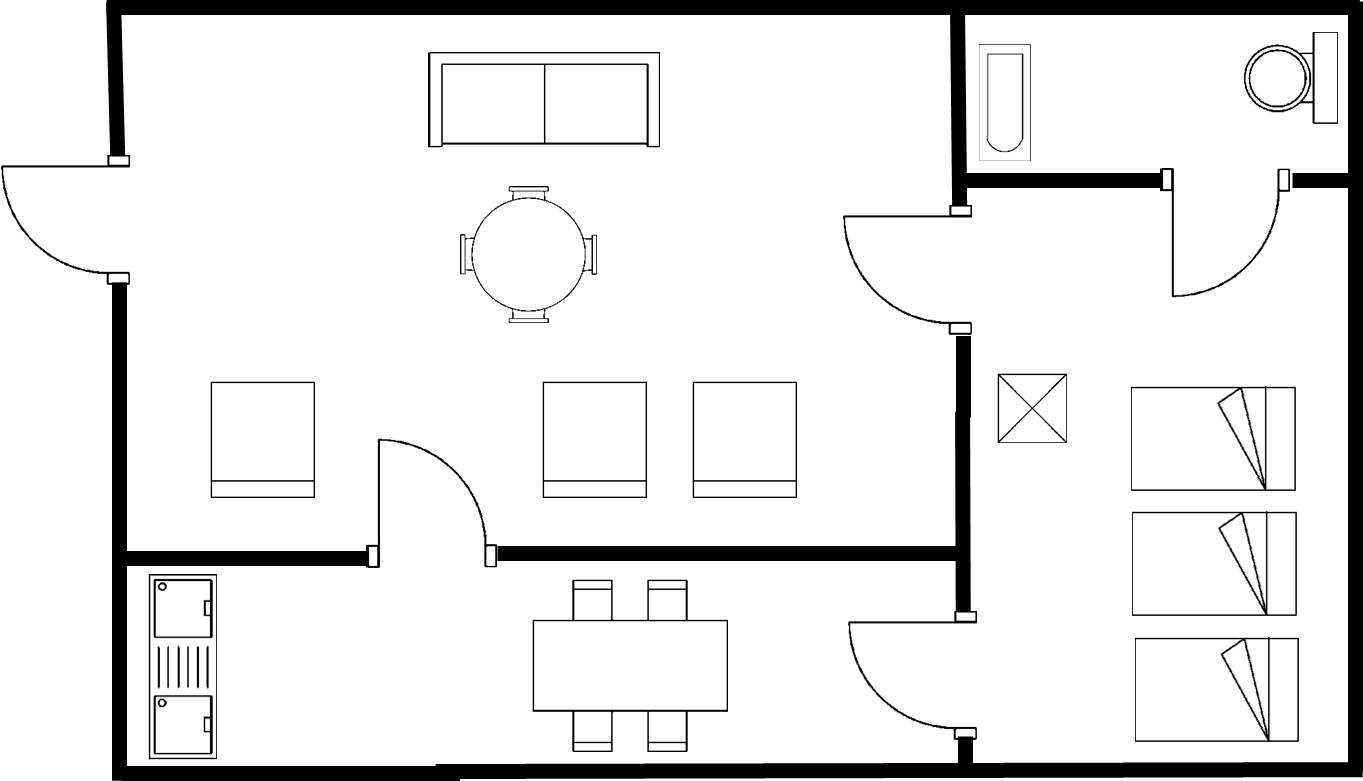bed: (1122, 377, 1303, 499), (1126, 632, 1306, 750), (1123, 504, 1303, 621)
coffee_table: (990, 365, 1074, 451)
dining_table: (525, 570, 737, 758)
large_sink: (1240, 28, 1343, 131)
large_sofa: (420, 43, 668, 155)
round_table: (453, 180, 607, 332)
small_sofa: (204, 374, 327, 506), (686, 372, 806, 506), (535, 375, 654, 507)
tub: (971, 35, 1042, 167)
twin_sink: (142, 568, 225, 766)
